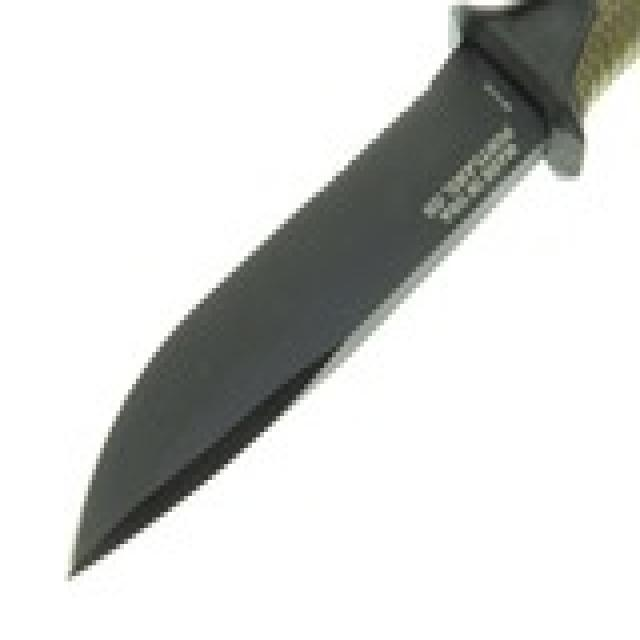Knife: (48, 11, 600, 595)
